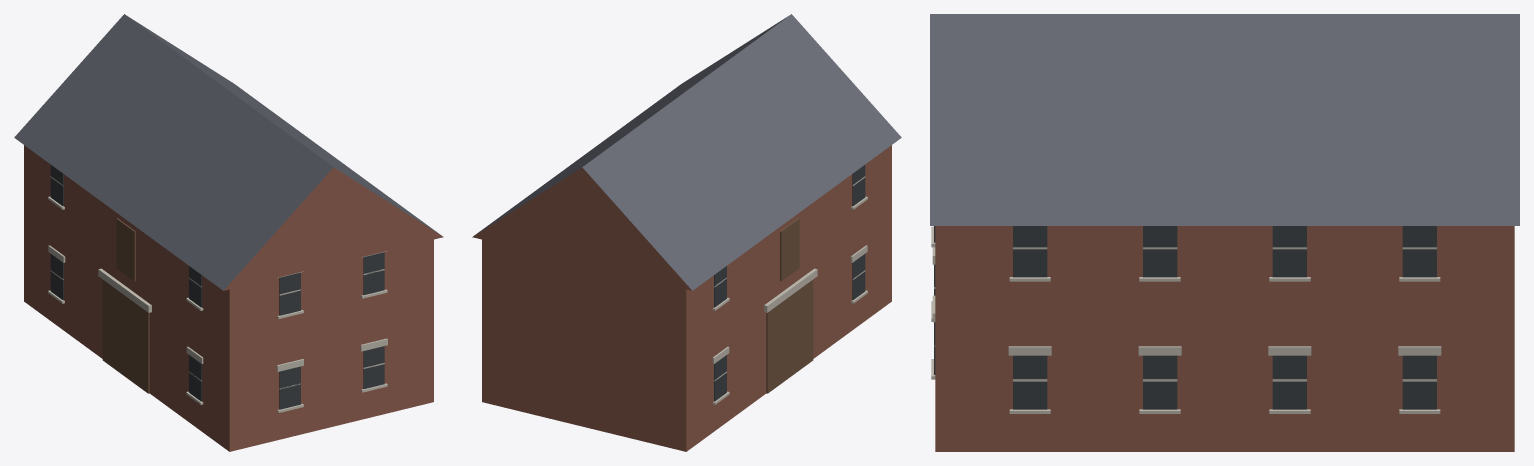
Rendered from high_house_2021_prairie_coach_house__draft_1904.glb.
The picture shows the model from 3 angles, left to right: view 1: azimuth 30°, elevation 25°; view 2: azimuth 150°, elevation 25°; view 3: azimuth 270°, elevation 25°; orthographic projection. The views are drawn at different scales.
Parts seen in each view (by area): view 1: high_house_2021_prairie_coach_house__draft_1904; view 2: high_house_2021_prairie_coach_house__draft_1904; view 3: high_house_2021_prairie_coach_house__draft_1904.
Boxes of the visible parts, x1,y1,x2,y2 form: high_house_2021_prairie_coach_house__draft_1904: (14,14,443,451); high_house_2021_prairie_coach_house__draft_1904: (472,14,901,451); high_house_2021_prairie_coach_house__draft_1904: (930,14,1519,451).
Size of the model in its own units: 8.35 by 9.45 by 13.74.
